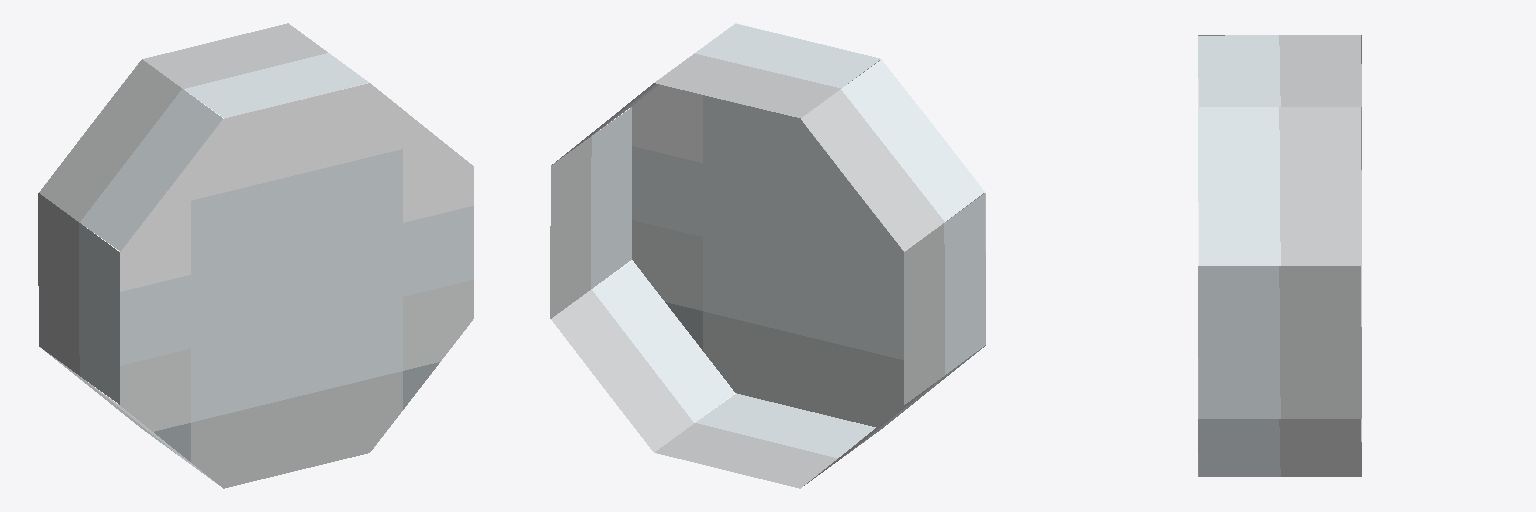
3 renders of one model, left to right at view 1: azimuth 30°, elevation 25°; view 2: azimuth 150°, elevation 25°; view 3: azimuth 270°, elevation 25°, orthographic.
Parts seen in each view (by area): view 1: bigbutton; view 2: bigbutton; view 3: bigbutton.
Boxes of the visible parts, box(x1,y1,x2,y2) form: bigbutton: box(38, 23, 473, 488); bigbutton: box(550, 23, 985, 488); bigbutton: box(1198, 35, 1361, 476).
Bounding box in the file's own units: 0.3125 × 0.3125 × 0.125.
Materials: 1 (1 with a texture image).